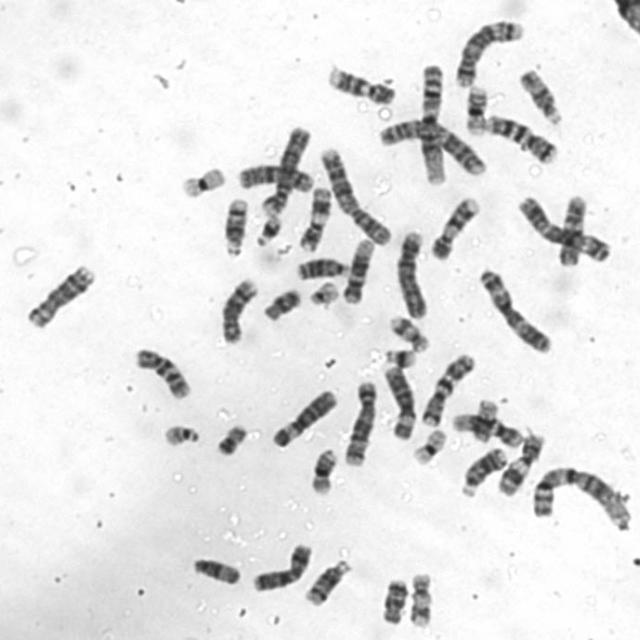A1: (528, 462, 632, 529), (417, 59, 447, 188)
A2: (316, 144, 393, 248), (374, 114, 489, 178)
A3: (474, 264, 554, 355), (514, 192, 612, 263)
B4: (257, 123, 313, 217), (393, 226, 429, 321)
B5: (450, 16, 526, 88), (341, 377, 380, 468)
C10: (131, 344, 193, 401), (554, 191, 589, 269)
C11: (493, 429, 547, 497), (296, 184, 334, 253)
C12: (448, 409, 524, 449), (340, 235, 375, 305)
C6: (268, 385, 338, 450), (379, 362, 418, 442)
C7: (417, 350, 478, 428), (481, 111, 560, 166)
C8: (22, 261, 98, 330), (215, 274, 260, 345)
C9: (426, 193, 482, 261), (324, 63, 398, 107)
D13: (458, 443, 508, 497), (294, 253, 349, 281)
D14: (300, 556, 353, 608), (219, 195, 250, 258)
D15: (516, 65, 564, 126), (188, 554, 242, 586)
E16: (307, 446, 339, 496), (462, 82, 489, 136)
E17: (386, 312, 431, 353), (406, 570, 434, 629)
E18: (259, 285, 303, 323), (377, 576, 410, 626)
F19: (178, 163, 228, 199), (408, 425, 448, 465)
F20: (468, 394, 506, 444), (210, 423, 247, 456)
G21: (253, 212, 285, 248), (381, 345, 418, 370)
G22: (160, 420, 202, 448), (305, 278, 341, 308)
X: (249, 539, 315, 593), (234, 160, 315, 195)
